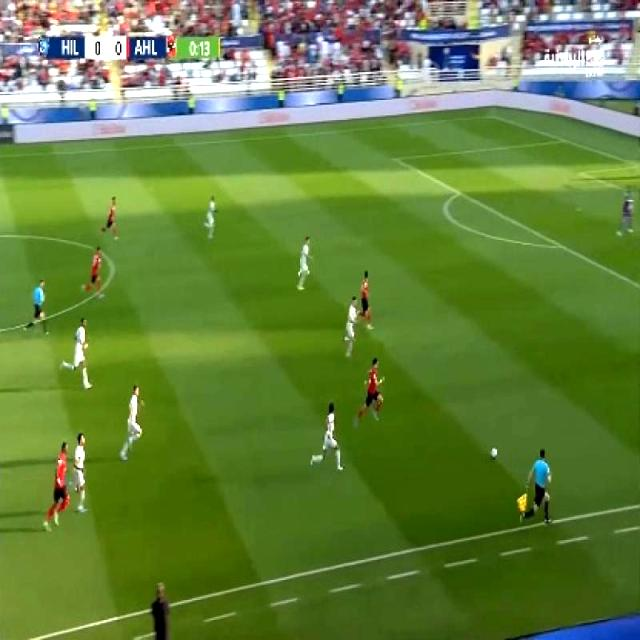bigarea_top_inner: (388, 149, 404, 168)
bigarea_top_outter: (552, 130, 571, 148)
bottom_arc_area_intersection: (552, 236, 568, 254)
corner: (482, 108, 500, 122)
smallarea_top_inner: (572, 164, 591, 182)
smallarea_top_outter: (623, 154, 640, 171)
top_arc_area_intersection: (448, 182, 468, 203)
